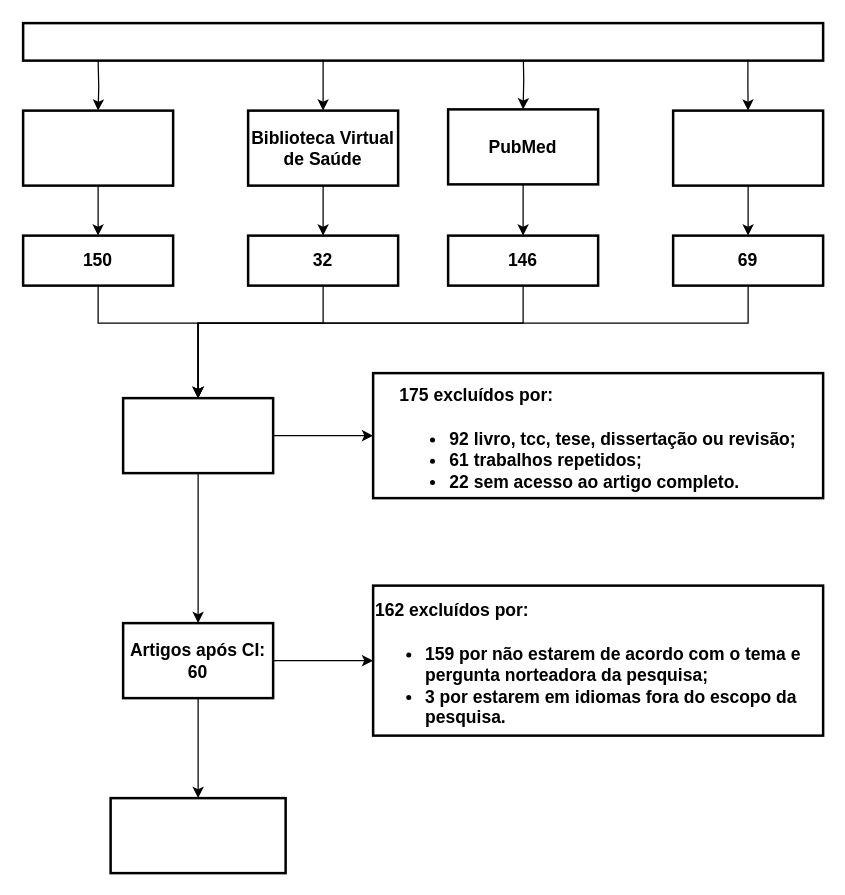
The diagram is 845 pixels wide and 895 high, and some of its shapes have lost their labels. The centre of each missing label's shape, as x and y in pixels:
"Artigos após CE: 222" goes at point (197, 435).
"Estudos incluídos: 60" goes at point (197, 835).
"Google Acadêmico" goes at point (97, 147).
"IEEE Xplore" goes at point (747, 147).
"String de Busca" goes at point (422, 41).
